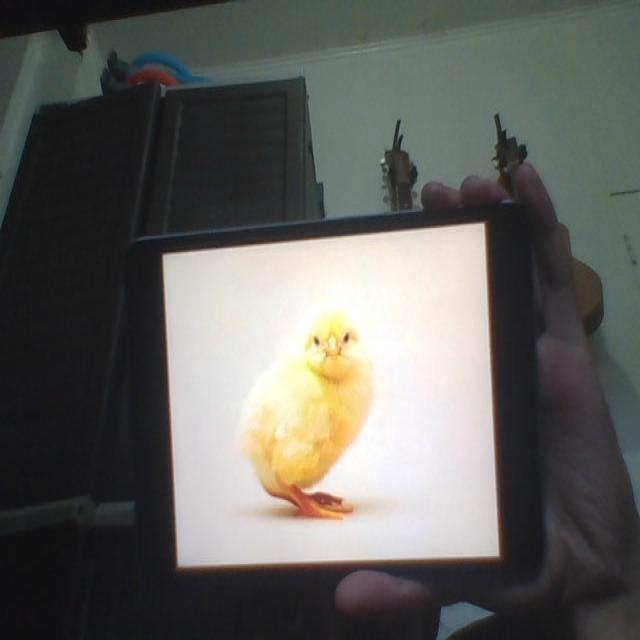Healthy: (242, 307, 378, 521)
